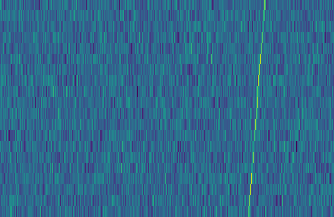signal: (245, 0, 271, 217)
